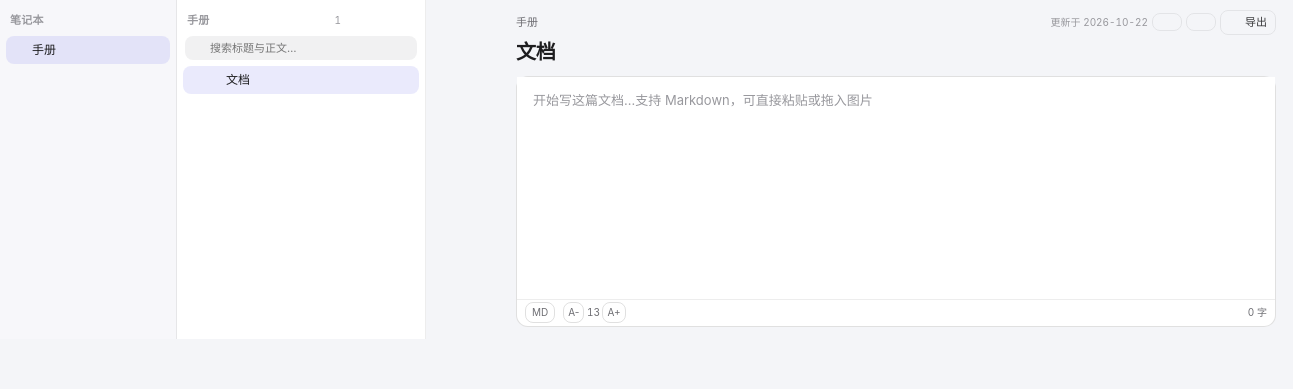
T49-8 · 全文搜索 › 搜不到时给空态文案
Type "zzz" into the search field with test id "notebook-search" at (310, 48), box x1=210 y1=41 x2=409 y2=55
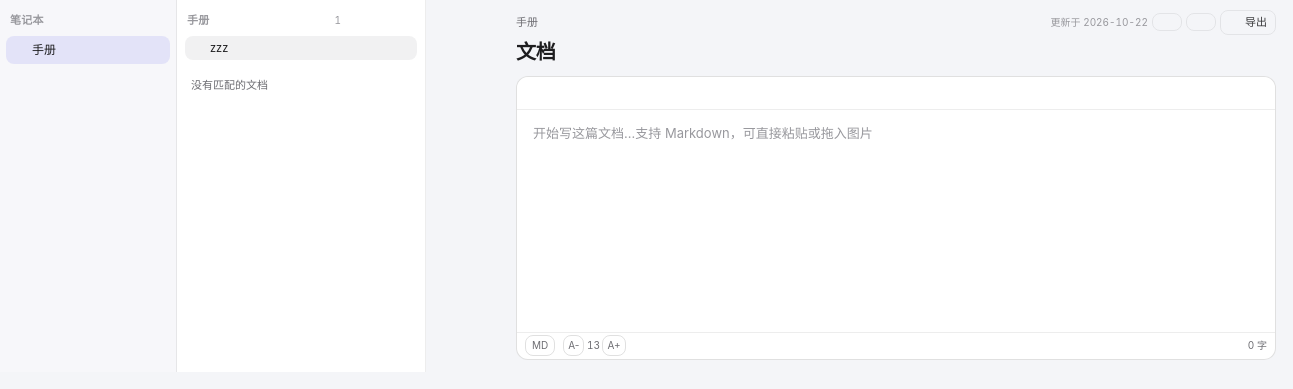
Result: the text "没有匹配的文档" is shown at x1=191 y1=78 x2=268 y2=92
